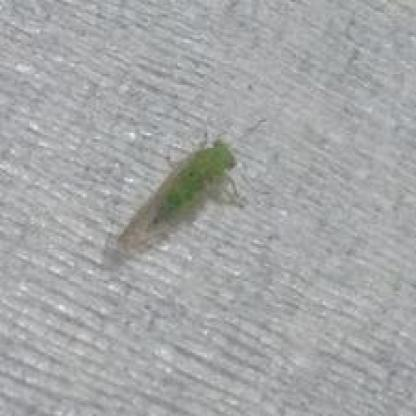Green-Leafhopper: (108, 128, 256, 256)
